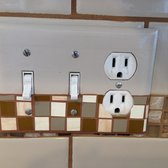outlet: (110, 55, 130, 79), (108, 93, 128, 115)
